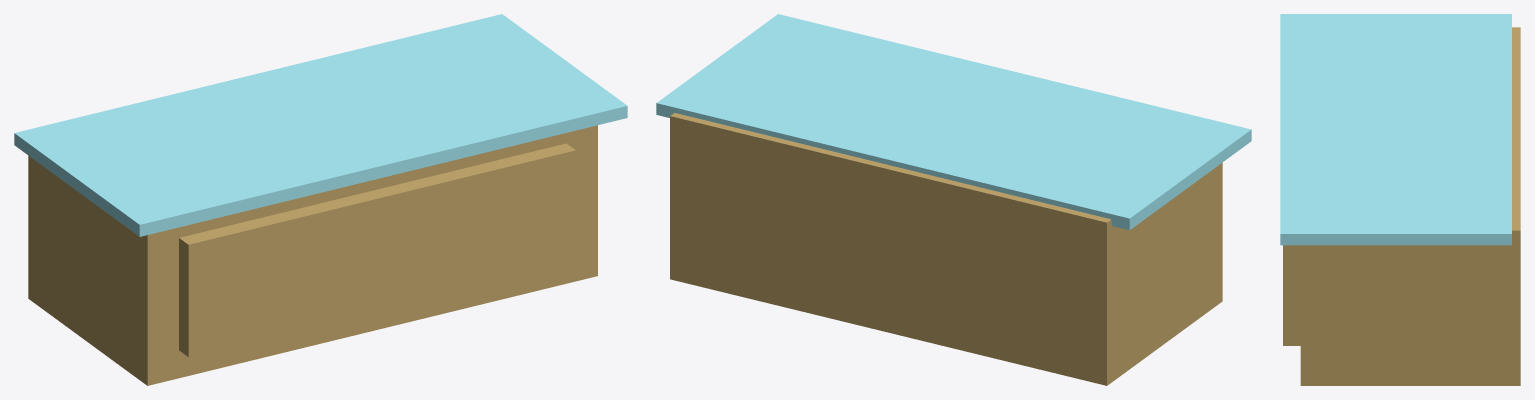
The model's file is counter.fbx.
3 renders of one model, left to right at view 1: azimuth 30°, elevation 25°; view 2: azimuth 150°, elevation 25°; view 3: azimuth 270°, elevation 25°, orthographic. The views are drawn at different scales.
Visible parts, largest first — view 1: Cube_1, Cube_2, Cube; view 2: Cube, Cube_1; view 3: Cube_1, Cube, Cube_2.
Boxes of the visible parts, x1,y1,x2,y2 form: Cube_1: (14,14,627,236); Cube_2: (179,143,575,357); Cube: (28,125,597,385); Cube: (670,113,1222,385); Cube_1: (656,14,1251,230); Cube_1: (1280,14,1511,245); Cube: (1300,27,1520,385); Cube_2: (1283,245,1300,345).
Bounding box in the file's own units: 358 × 122 × 165.
